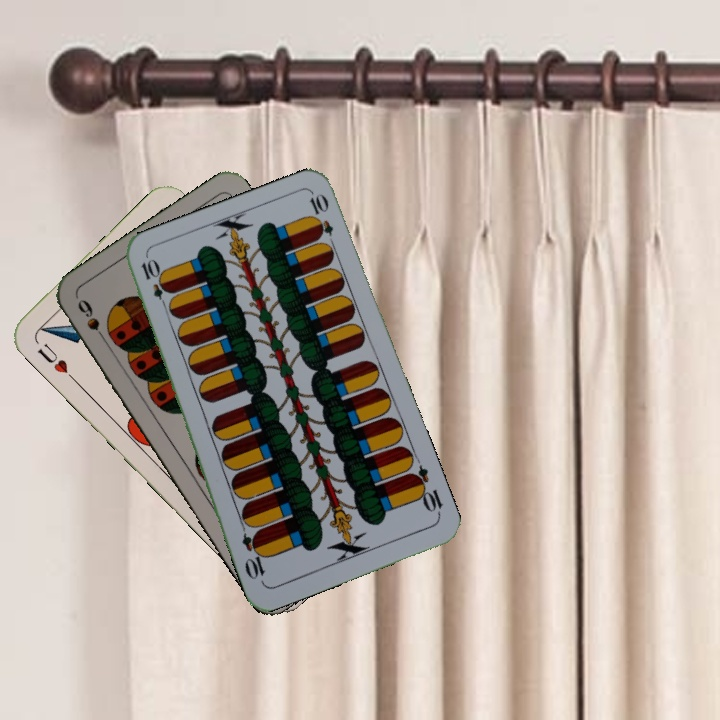E10: (405, 462, 445, 519), (137, 255, 172, 313)
HU: (33, 338, 78, 384)
S9: (73, 295, 112, 348)
